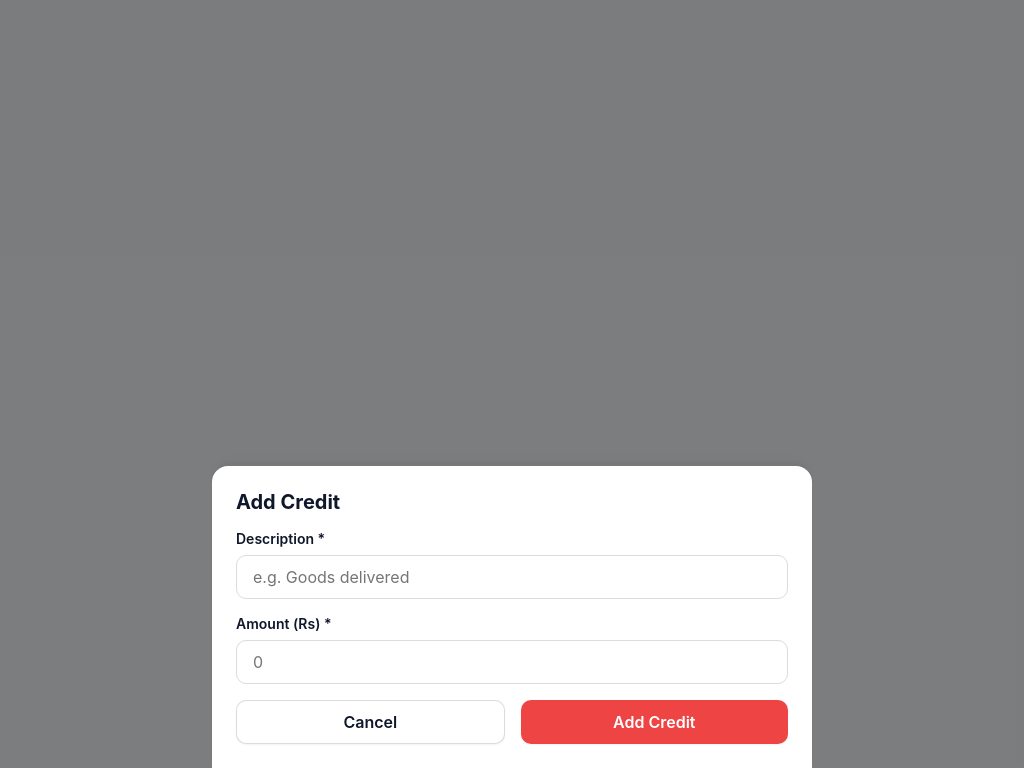
Scenario: AddCreditForm › Validation › shows validation error when description is empty
Click the button "Add Credit" at (654, 722), box 520,700 -> 788,744
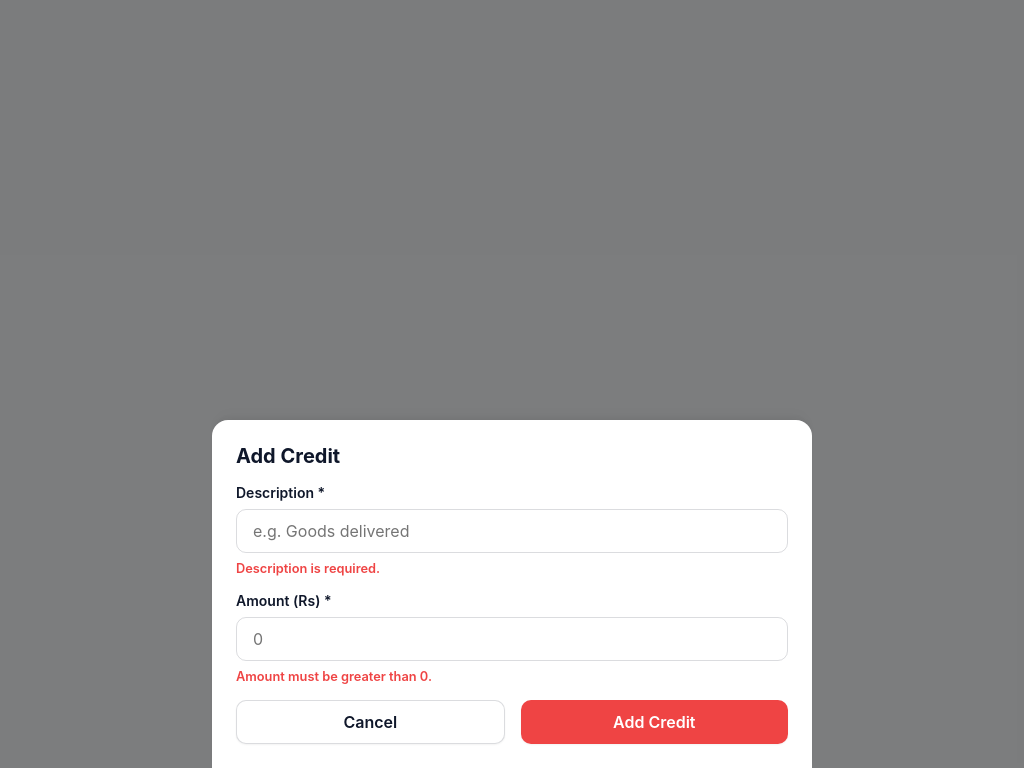
Now the text "Description is required." is shown, box 236,561 -> 380,576
